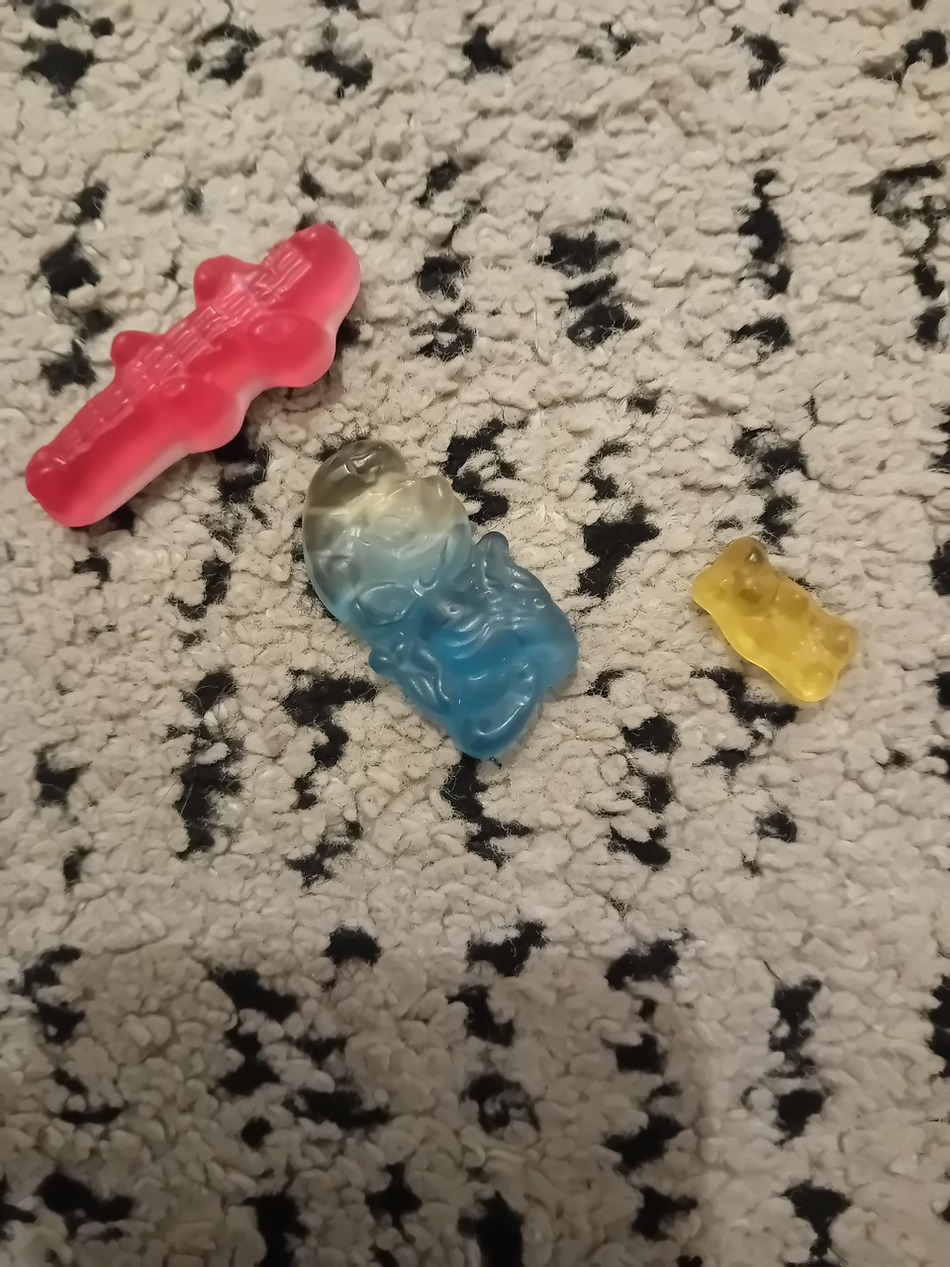crocodile_rouge: (20, 216, 369, 536)
ourson_jaune: (677, 533, 865, 713)
schtroumpf_bleu-blanc: (295, 430, 596, 767)
